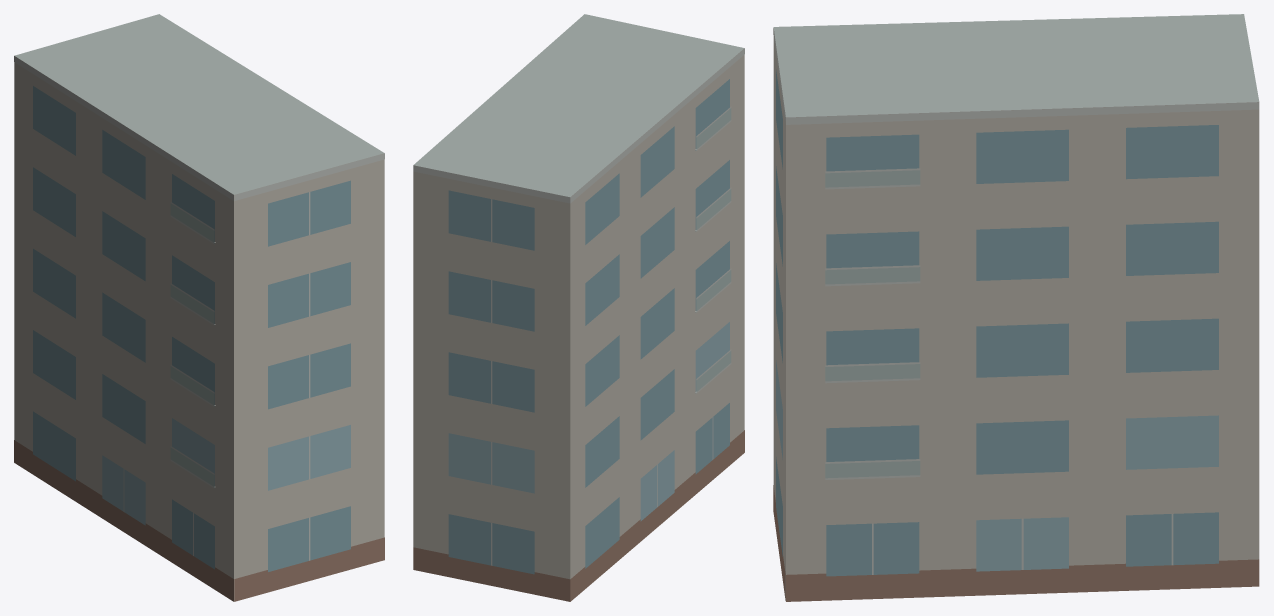
The model's file is survey-upis-32728305.glb.
3 renders of one model, left to right at view 1: azimuth 30°, elevation 25°; view 2: azimuth 150°, elevation 25°; view 3: azimuth 270°, elevation 25°, orthographic. The views are drawn at different scales.
Visible parts, largest first — view 1: survey-upis-32728305.tmp; view 2: survey-upis-32728305.tmp; view 3: survey-upis-32728305.tmp.
Part boxes in pixels (x1=…): survey-upis-32728305.tmp: x1=14, y1=14, x2=384, y2=601; survey-upis-32728305.tmp: x1=413, y1=14, x2=744, y2=601; survey-upis-32728305.tmp: x1=773, y1=14, x2=1259, y2=601.
Bounding box in the file's own units: 7.2 × 15.7 × 14.28.
